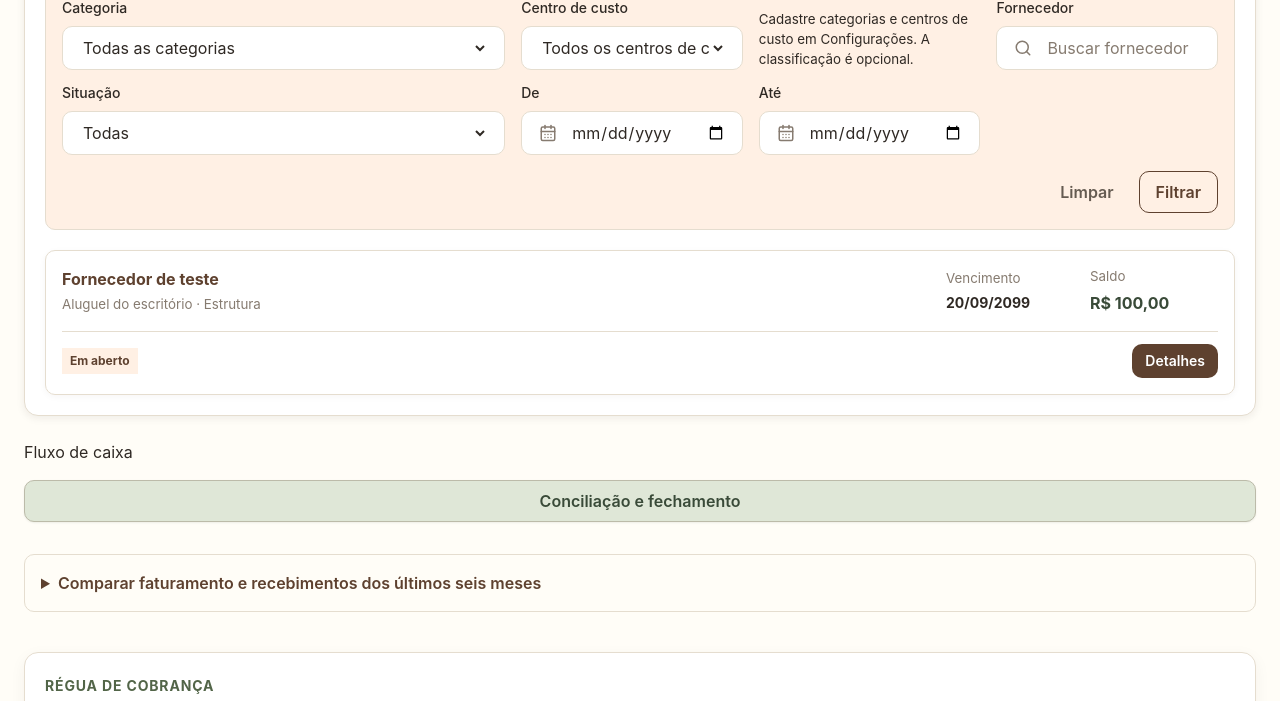
Test case: FinancePage — contas a pagar › exibe detalhes e auditoria sem ações de gestão para leitura
This screenshot has width=1280, height=701.
(page scrolled)
Click the button "Detalhes" at x=1175, y=361, box [1132,344,1218,378]
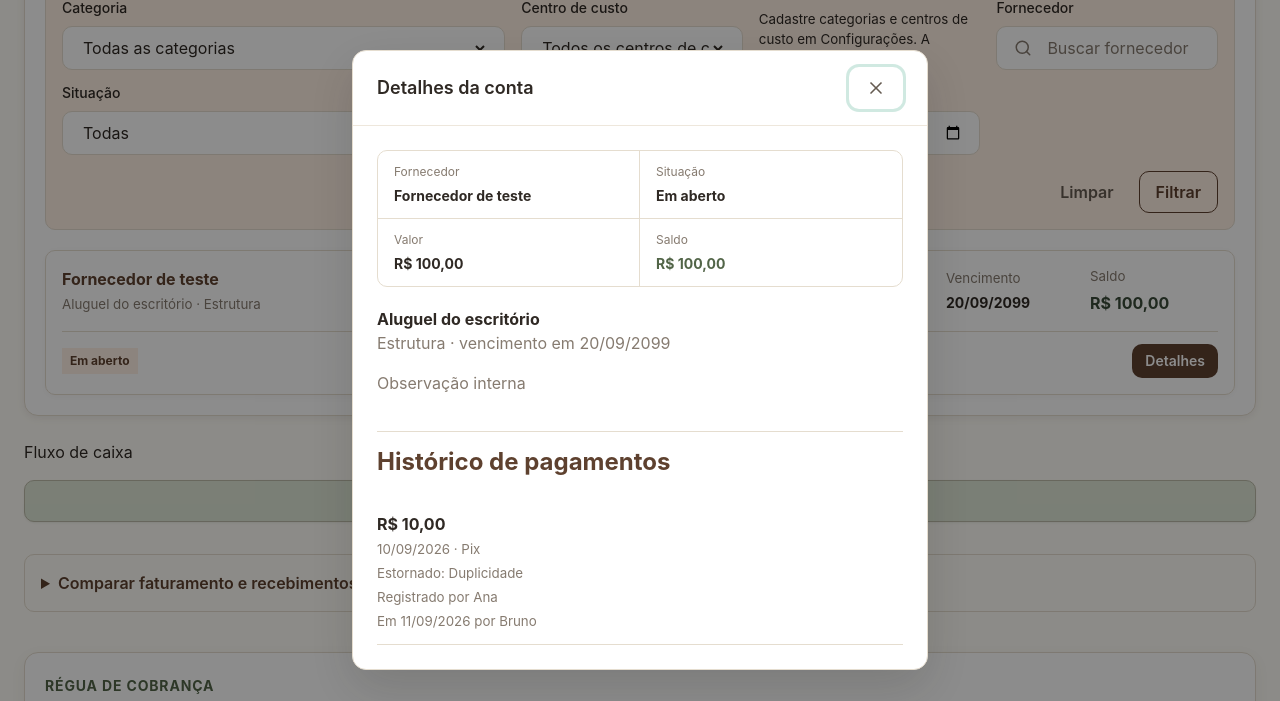
Check: the dialog shows "Observação interna", box [377,373,526,393]
Check: the dialog shows "Registrado por Ana", box [377,589,498,605]
Check: the dialog shows "por Bruno", box [470,613,537,629]
